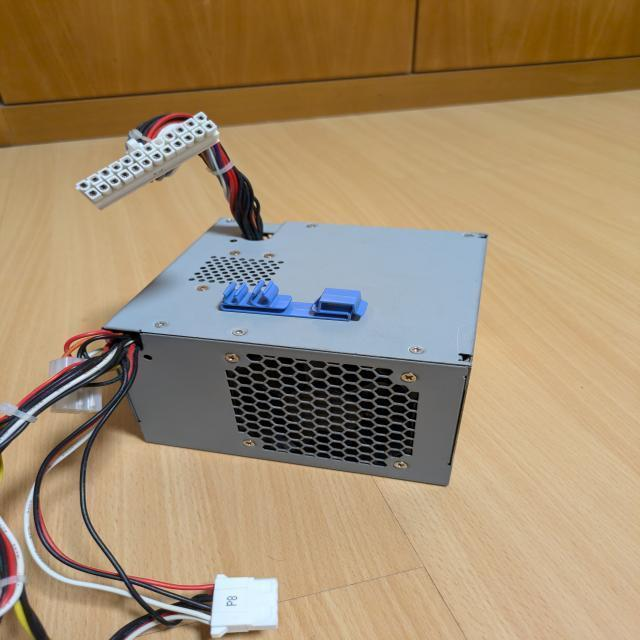PSU: (100, 213, 490, 491)
